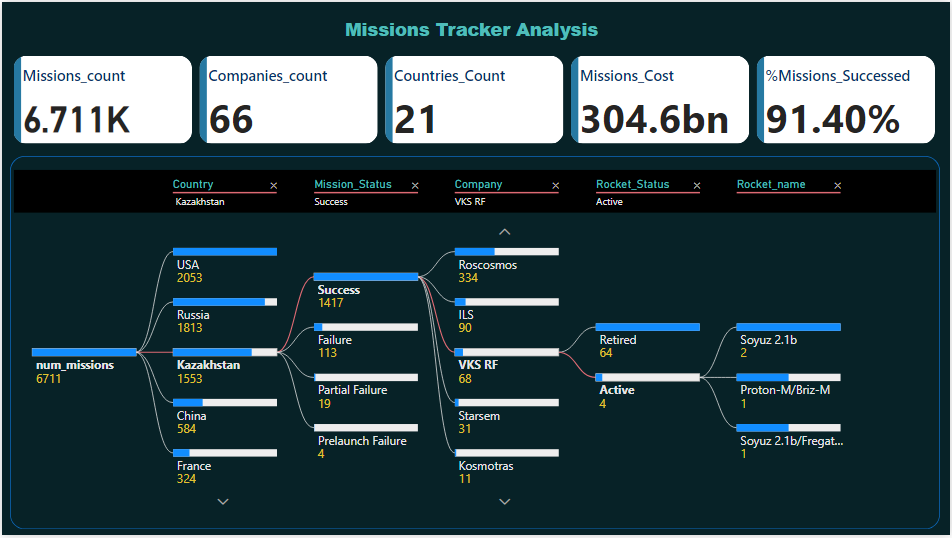

What the dashboard file says about the page in this screenshot:
{"tool":"powerbi","page":{"name":"Missions_Tracker","canvas":[1280,720],"ordinal":5},"visuals":[{"type":"shape","box":[10.4,207.5,1256.7,504.5],"z":0},{"type":"textbox","box":[176.1,14.9,925.4,52.2],"z":1000},{"type":"cardVisual","fields":{"Data":["KPIs.num_missions","KPIs.num_companies","KPIs.num_country_launch","KPIs.missions_cost","KPIs.%Missions_Successed"]},"box":[10.4,67.2,1256.7,129.9],"z":2000},{"type":"decompositionTreeVisual","fields":{"Analyze":["KPIs.num_missions"],"ExplainBy":["Location_Dim.Country","MissionStatus_Dim.Mission_Status","Company_Dim.Company","space_mission_launches_Fact.Rocket_Status","Rocket_Dim.Rocket_name"]},"box":[10.1,221.7,1256.5,488.4],"z":3000}]}

Visuals, with their boxes in screenshot pixels (x1, y1, x2, y2), scaled from the page's 1280x720 canvas onto the 952x538 screenshot:
shape: l=8, t=155, r=942, b=532
textbox: l=131, t=11, r=819, b=50
cardVisual - KPIs.num_missions x KPIs.num_companies: l=8, t=50, r=942, b=147
decompositionTreeVisual - KPIs.num_missions x Location_Dim.Country: l=8, t=166, r=942, b=531
